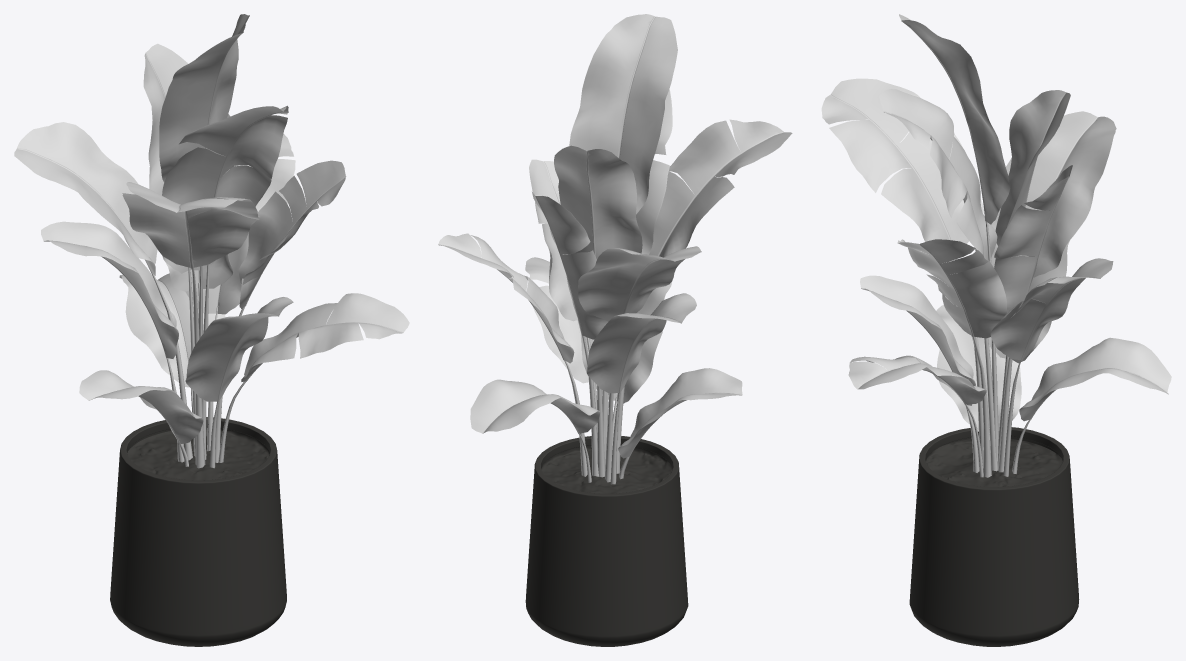
The picture shows the model from 3 angles, left to right: view 1: azimuth 30°, elevation 25°; view 2: azimuth 150°, elevation 25°; view 3: azimuth 270°, elevation 25°; orthographic projection. The views are drawn at different scales.
Parts seen in each view (by area): view 1: STRELITZIA_REGINAE; view 2: STRELITZIA_REGINAE; view 3: STRELITZIA_REGINAE.
Part boxes in pixels (x1,y1,x2,y2): STRELITZIA_REGINAE: (14,14,409,646); STRELITZIA_REGINAE: (438,14,792,646); STRELITZIA_REGINAE: (821,14,1171,646).
Size of the model in its own units: 99.9 by 213 by 112.
Materials: 2 (1 with a texture image).
